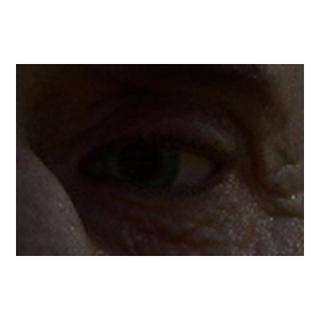pupil: (121, 143, 157, 179)
